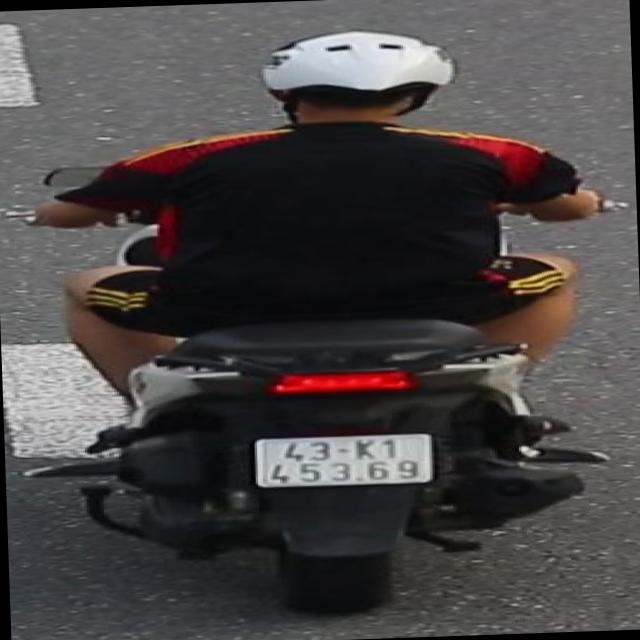LP: (247, 428, 442, 497)
helmet: (254, 22, 459, 136)
